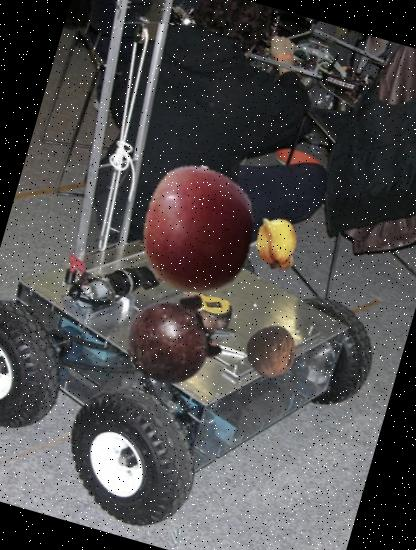Apple: (117, 150, 278, 311)
Carambula: (240, 208, 312, 278)
Mangostan: (114, 271, 244, 402)
Walnut: (238, 319, 304, 386)
